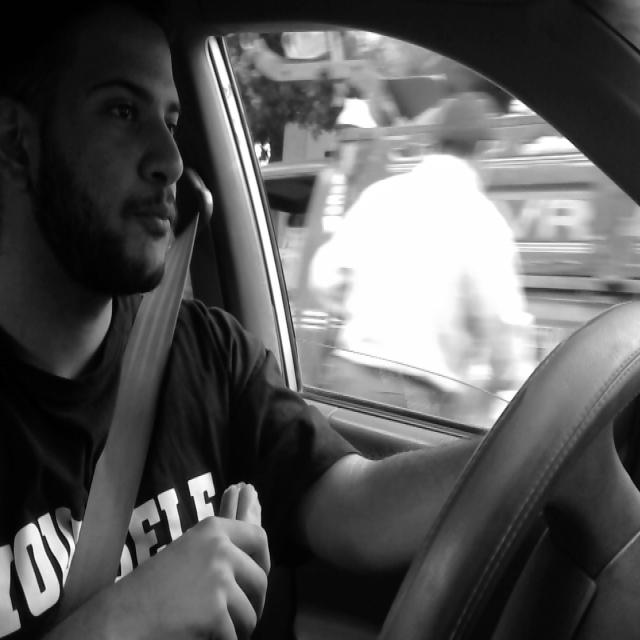eating: (208, 478, 268, 636)
